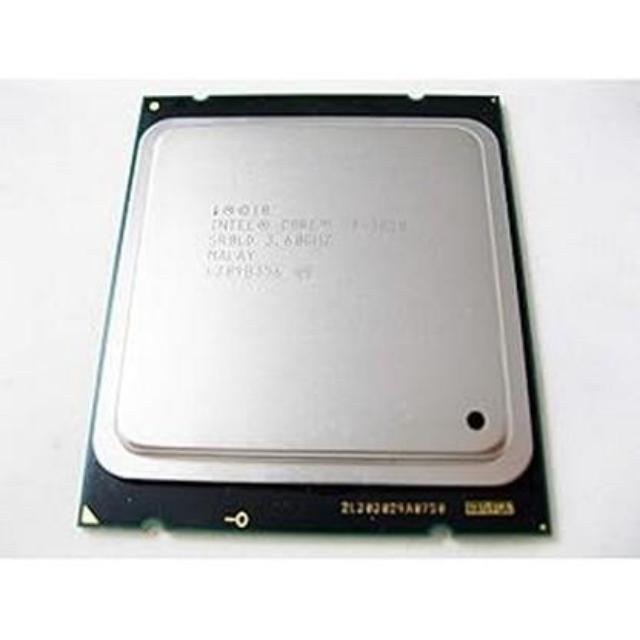CPU: (107, 96, 522, 502)
